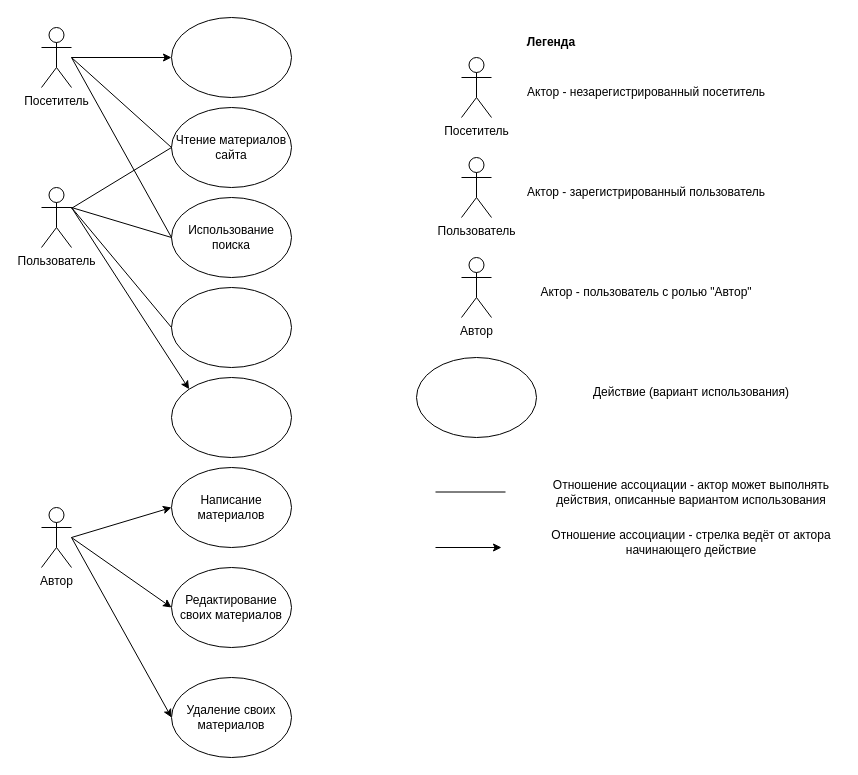
Image size: 858x775. Some labels were removed from this diagram. Here are the shapes that lost their labels. From the top down, the centre of each, then its label:
(231,57): Саморегистрация логин и пароль
(231,327): Скачивание файлов к материалу
(231,417): Связь с администратором для добавления в группу "Автор"
(476,397): UseCase
